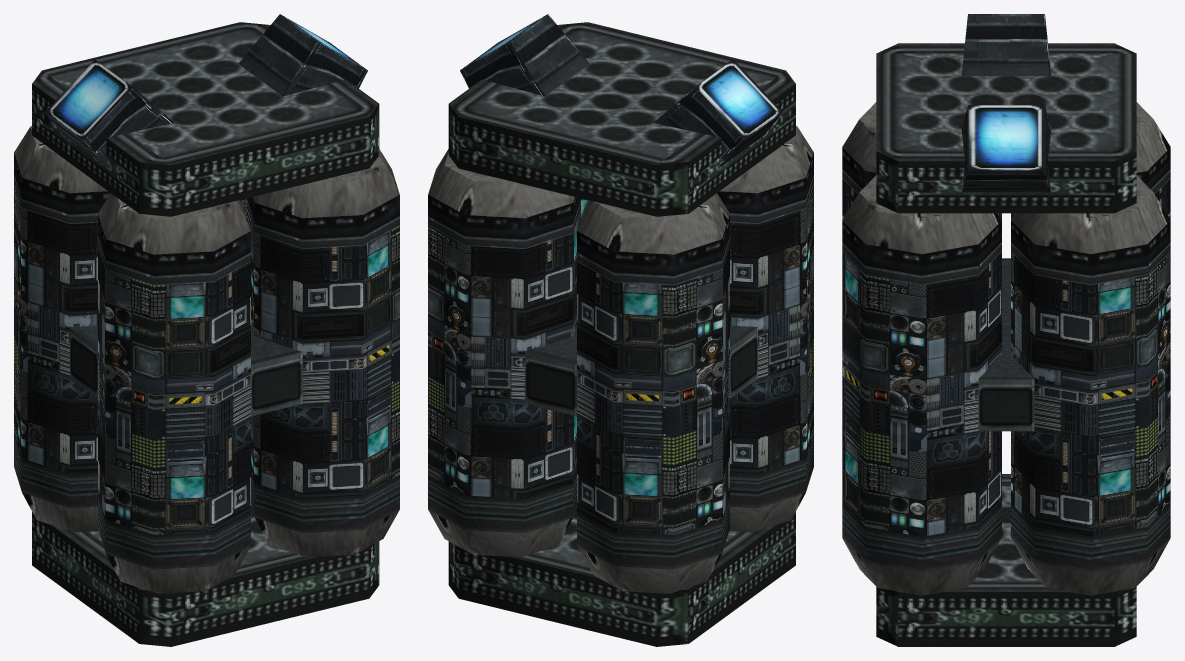
The model's file is Battery_small_04.FBX.
3 renders of one model, left to right at view 1: azimuth 30°, elevation 25°; view 2: azimuth 150°, elevation 25°; view 3: azimuth 270°, elevation 25°, orthographic.
Parts seen in each view (by area): view 1: Battery_small_04, Liquid; view 2: Battery_small_04, Liquid; view 3: Battery_small_04, Liquid.
Part boxes in pixels (x1,y1,x2,y2): Battery_small_04: [14, 14, 399, 646]; Liquid: [14, 183, 399, 534]; Battery_small_04: [428, 14, 813, 646]; Liquid: [428, 183, 813, 534]; Battery_small_04: [842, 14, 1170, 646]; Liquid: [842, 179, 1170, 536].
Size of the model in its own units: 86.16 by 151 by 85.
